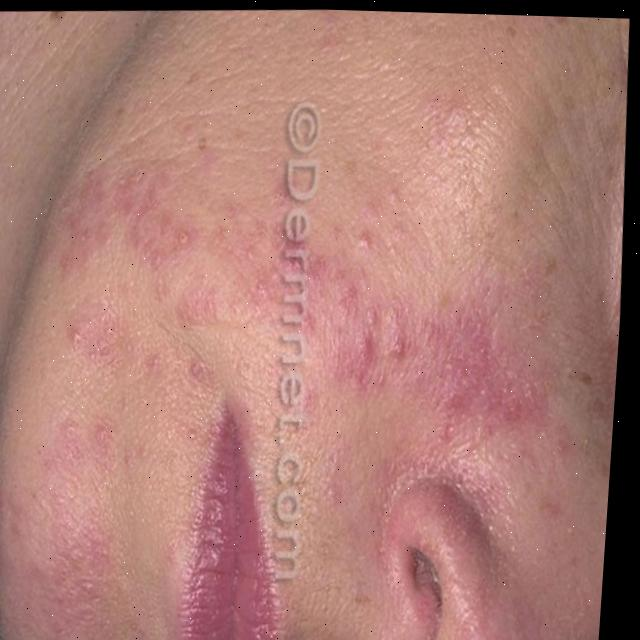Rosacea: (68, 99, 591, 455), (39, 491, 130, 640)
